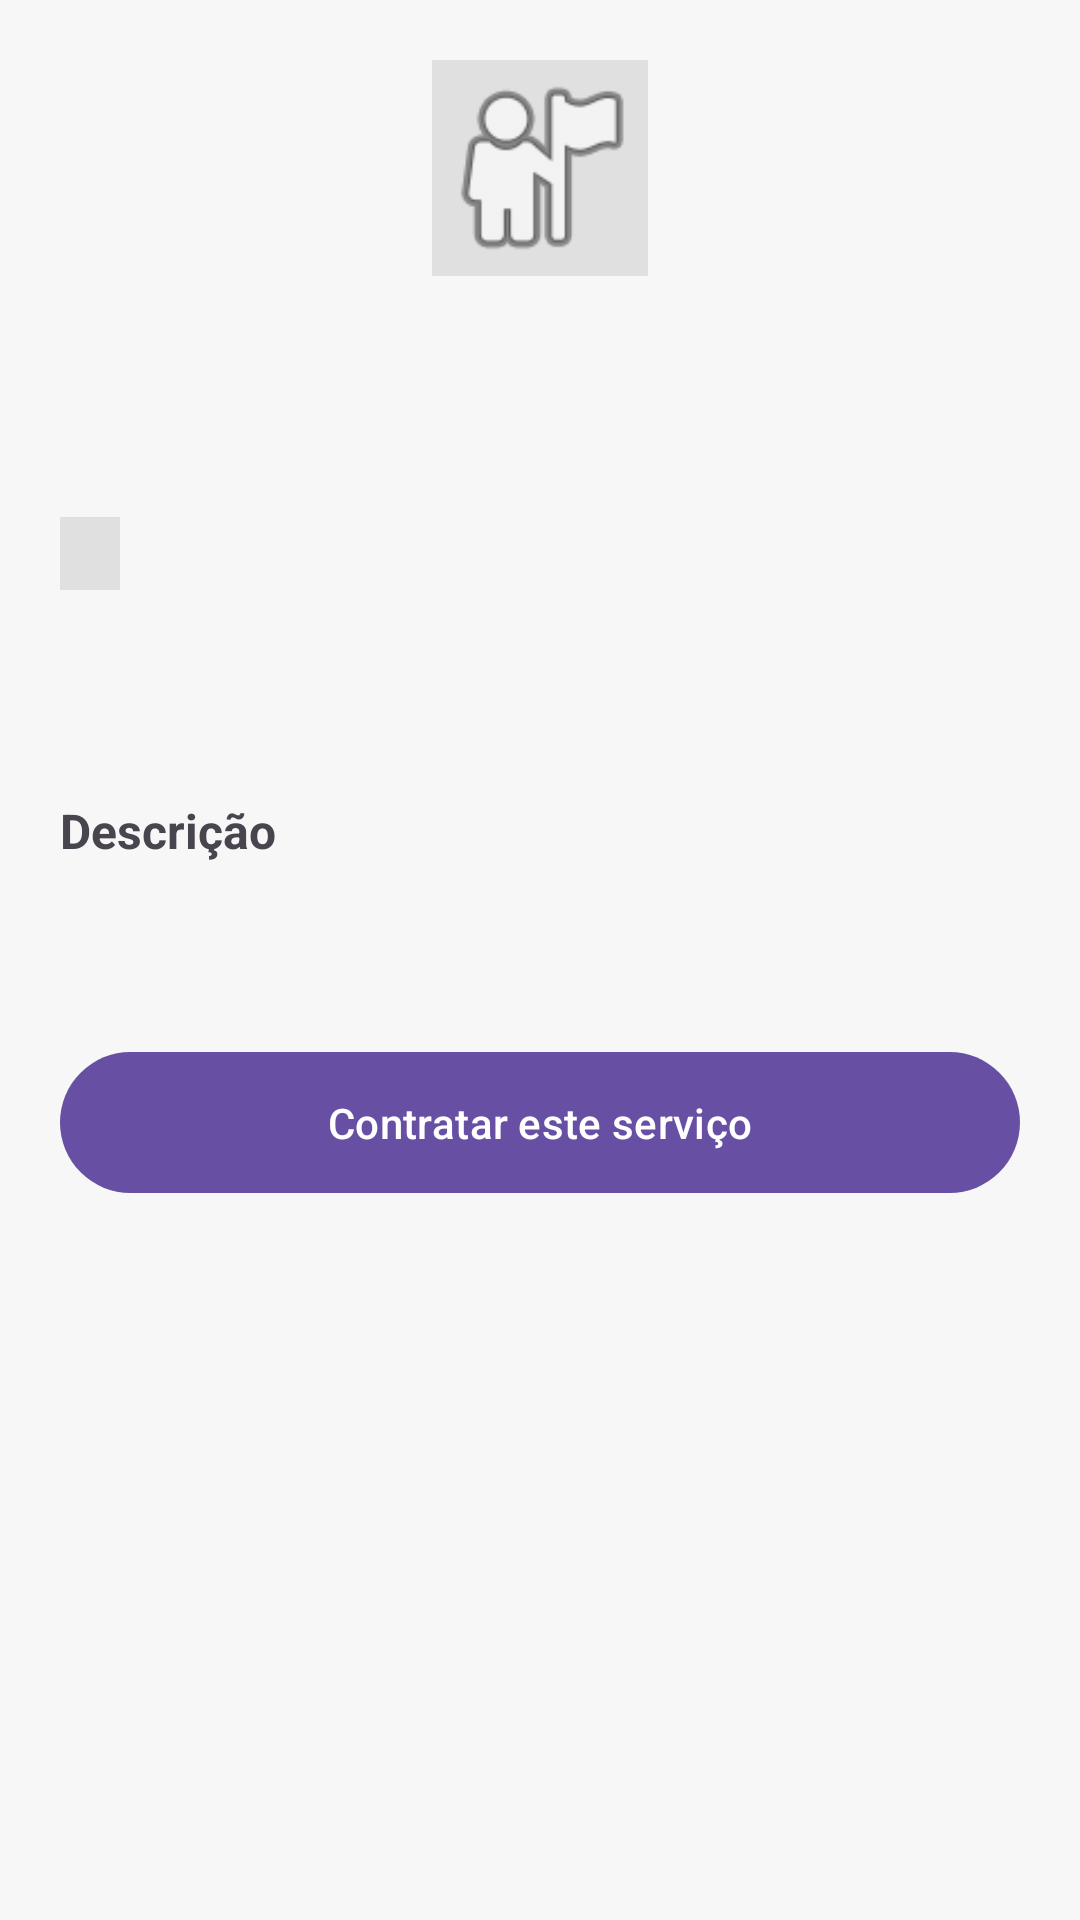

Named icons in this screenshot (1080x1920) and their bounding boxes, [x1, y1, x2, y2]:
Foto do freelancer: [432, 60, 648, 276]
